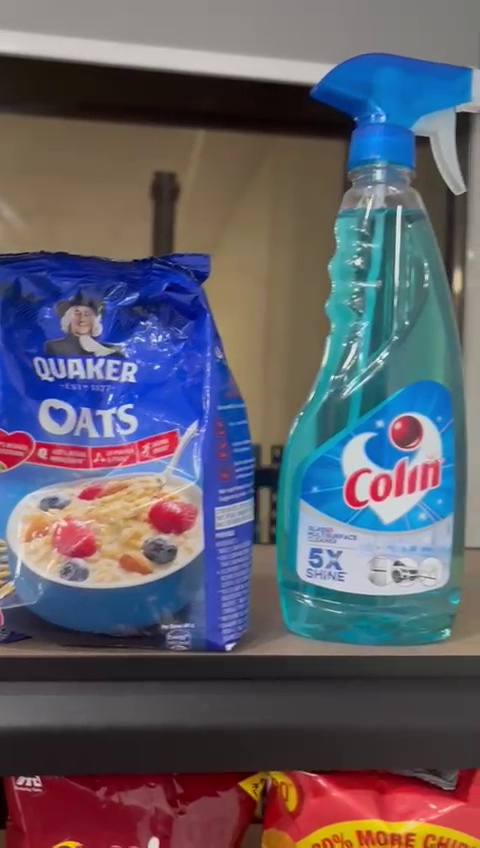Colin: (274, 36, 480, 654)
Quaker Oats: (0, 250, 260, 642)
